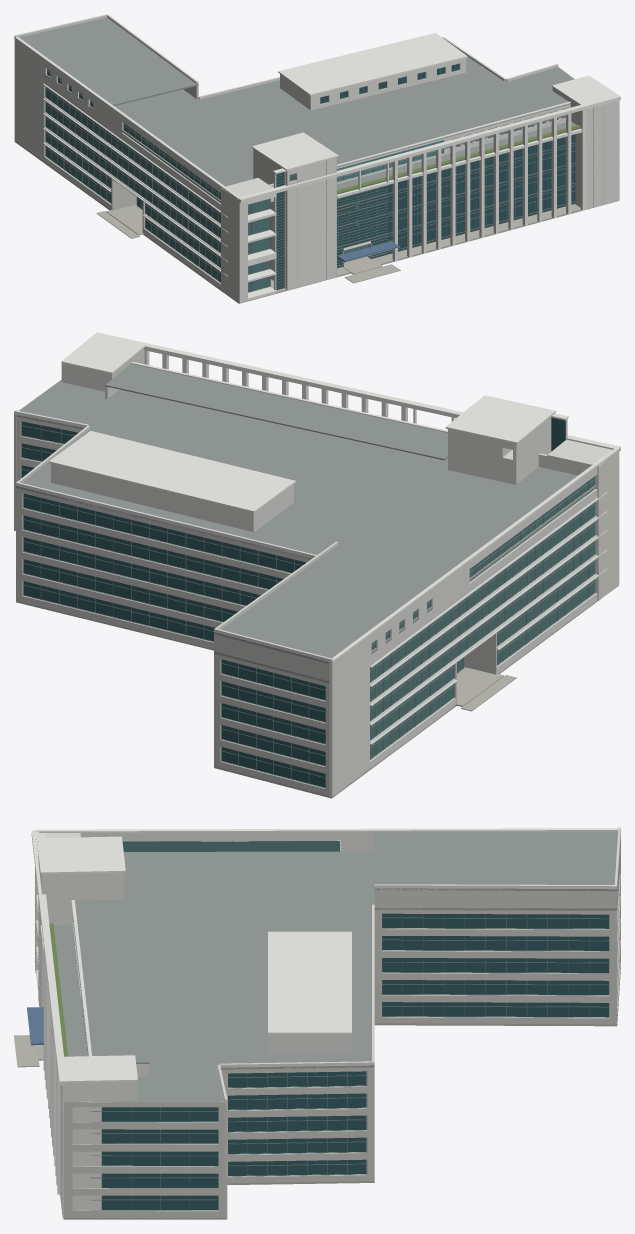
3 renders of one model, top to bottom at view 1: azimuth 30°, elevation 25°; view 2: azimuth 150°, elevation 25°; view 3: azimuth 270°, elevation 25°, orthographic. The views are drawn at different scales.
Visible parts, largest first — view 1: c5-library__main-roof-slab, c5-library__front-curtain-glass, c5-library__lake-ribbon-glass, c5-library__lake-side-stone-wall, c5-library__free-standing-front-colonnade, c5-library__west-wing-roof-slab, c5-library__left-tall-blank-core, c5-library__rear-roof-service-coping, c5-library__setback-fifth-roof, c5-library__right-short-blank-core, c5-library__lake-ribbon-frame, c5-library__left-outer-pier (+31 smaller); view 2: c5-library__main-roof-slab, c5-library__rear-estimated-window-glass, c5-library__rear-estimated-wall, c5-library__lake-ribbon-glass, c5-library__lake-side-stone-wall, c5-library__west-wing-roof-slab, c5-library__setback-fifth-roof, c5-library__rear-roof-service-coping, c5-library__rear-estimated-window-frame, c5-library__lake-ribbon-frame, c5-library__rear-roof-service-core, c5-library__left-tall-blank-core (+14 smaller); view 3: c5-library__main-roof-slab, c5-library__rear-estimated-window-glass, c5-library__rear-estimated-wall, c5-library__west-wing-roof-slab, c5-library__setback-fifth-roof, c5-library__north-return-wall, c5-library__north-return-window-glass, c5-library__rear-roof-service-coping, c5-library__rear-estimated-window-frame, c5-library__right-short-blank-core, c5-library__left-tall-blank-core, c5-library__left-core-coping (+15 smaller).
Part boxes in pixels (left/top/right/bottom): c5-library__main-roof-slab: left=45, top=57, right=574, bottom=202; c5-library__front-curtain-glass: left=337, top=134, right=574, bottom=265; c5-library__lake-ribbon-glass: left=46, top=69, right=220, bottom=282; c5-library__lake-side-stone-wall: left=15, top=39, right=220, bottom=289; c5-library__free-standing-front-colonnade: left=392, top=109, right=585, bottom=261; c5-library__west-wing-roof-slab: left=19, top=17, right=198, bottom=105; c5-library__left-tall-blank-core: left=253, top=149, right=336, bottom=290; c5-library__rear-roof-service-coping: left=278, top=33, right=467, bottom=95; c5-library__setback-fifth-roof: left=326, top=87, right=570, bottom=167; c5-library__right-short-blank-core: left=552, top=87, right=619, bottom=209; c5-library__lake-ribbon-frame: left=45, top=69, right=220, bottom=282; c5-library__left-outer-pier: left=221, top=185, right=247, bottom=303; c5-library__main-roof-slab: left=16, top=379, right=596, bottom=683; c5-library__rear-estimated-window-glass: left=21, top=421, right=325, bottom=787; c5-library__rear-estimated-wall: left=16, top=415, right=333, bottom=796; c5-library__lake-ribbon-glass: left=370, top=476, right=595, bottom=759; c5-library__lake-side-stone-wall: left=329, top=467, right=597, bottom=797; c5-library__west-wing-roof-slab: left=214, top=545, right=447, bottom=663; c5-library__setback-fifth-roof: left=105, top=364, right=447, bottom=460; c5-library__rear-roof-service-coping: left=49, top=431, right=295, bottom=512; c5-library__rear-estimated-window-frame: left=21, top=421, right=325, bottom=788; c5-library__lake-ribbon-frame: left=370, top=478, right=595, bottom=759; c5-library__rear-roof-service-core: left=51, top=463, right=293, bottom=532; c5-library__left-tall-blank-core: left=448, top=417, right=551, bottom=484; c5-library__main-roof-slab: left=72, top=851, right=618, bottom=1102; c5-library__rear-estimated-window-glass: left=228, top=913, right=609, bottom=1175; c5-library__rear-estimated-wall: left=217, top=833, right=620, bottom=1218; c5-library__west-wing-roof-slab: left=374, top=831, right=618, bottom=891; c5-library__setback-fifth-roof: left=75, top=900, right=149, bottom=1063; c5-library__north-return-wall: left=64, top=1101, right=224, bottom=1218; c5-library__north-return-window-glass: left=102, top=1107, right=218, bottom=1209; c5-library__rear-roof-service-coping: left=268, top=931, right=351, bottom=1034; c5-library__rear-estimated-window-frame: left=227, top=914, right=609, bottom=1176; c5-library__right-short-blank-core: left=60, top=1081, right=137, bottom=1218; c5-library__left-tall-blank-core: left=38, top=855, right=124, bottom=1007; c5-library__left-core-coping: left=36, top=836, right=125, bottom=874.
Size of the model in its own units: 83.55 by 24.1 by 82.21.
